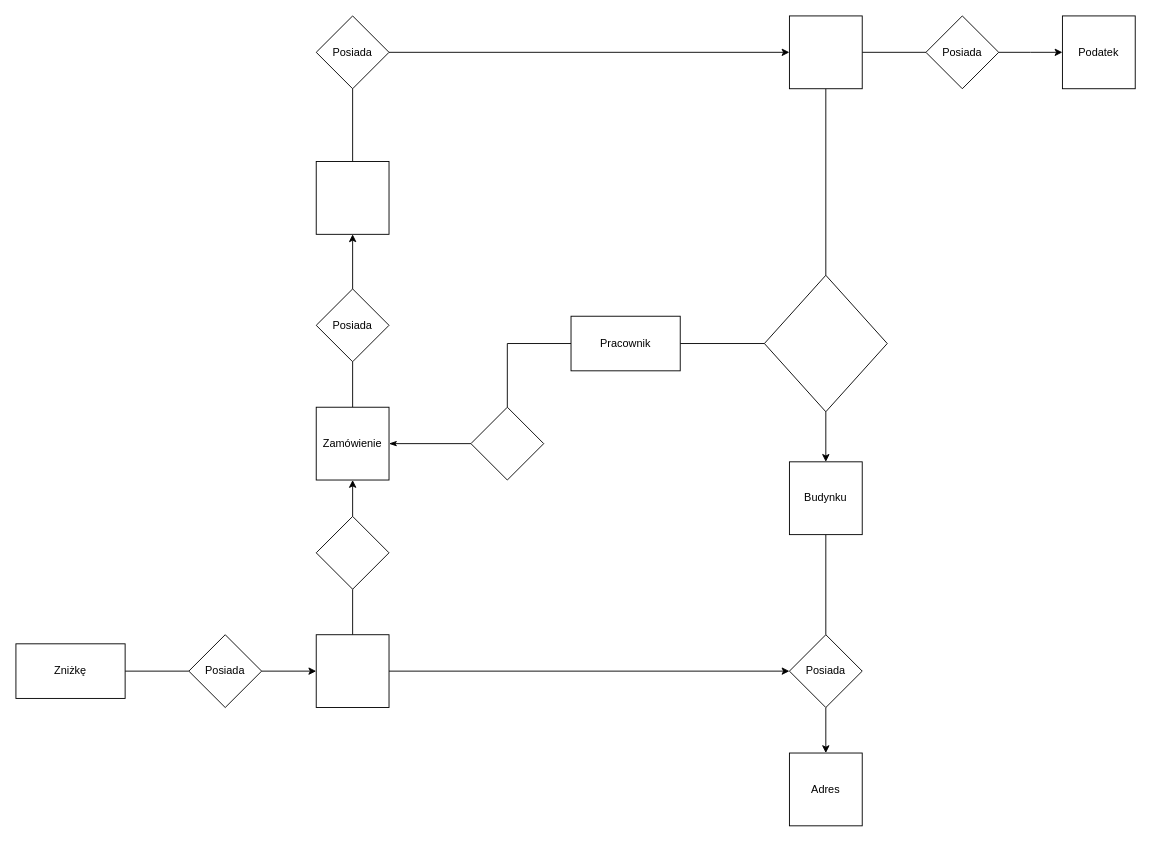
This 1151x842 diagram has some shape labels left out. Each missing label, with the centre of its shape:
"Klient" goes at (352,671).
"Produkt" goes at (825,52).
"Realizuje" goes at (507,443).
"Składa" goes at (352,552).
"Szczegóły Zamówienia" goes at (352,197).
"Znajduje się w / pracuje" goes at (825,343).
